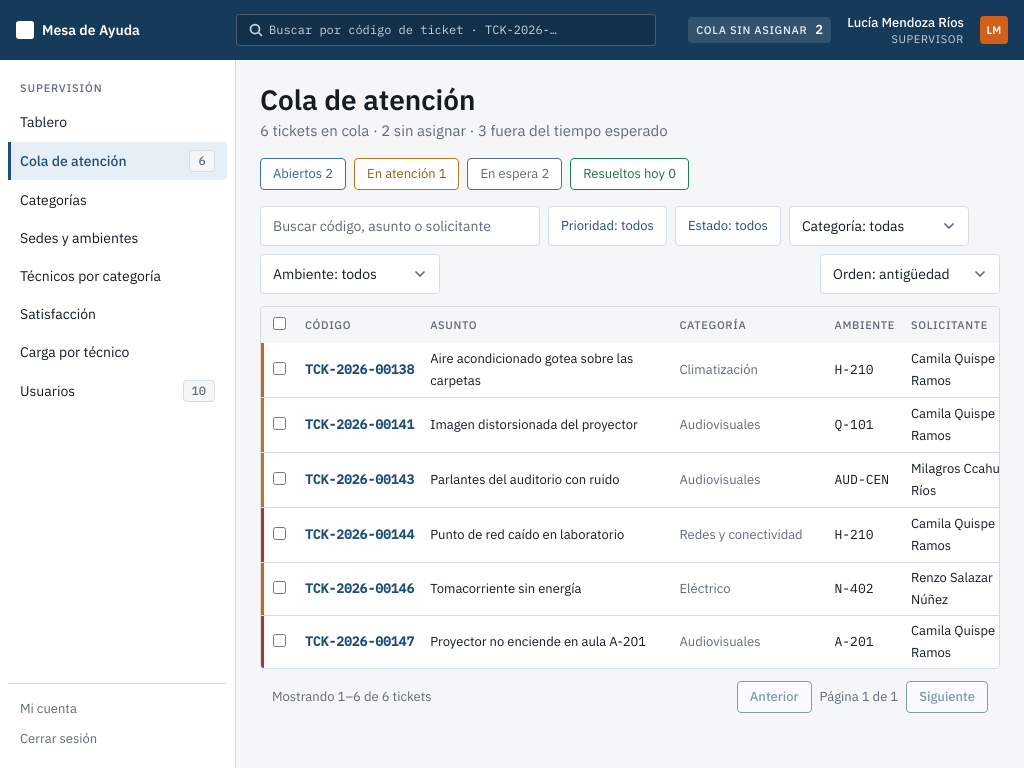
HU-4 · cola y bandeja › no permite devolver a la cola un ticket que ya está sin asignar
Expected: the table named "Tickets de la cola de atención" is shown, [261, 307, 1000, 668]
Click the checkbox named "Seleccionar TCK-2026-00147" at [280, 640], box [273, 634, 286, 646]
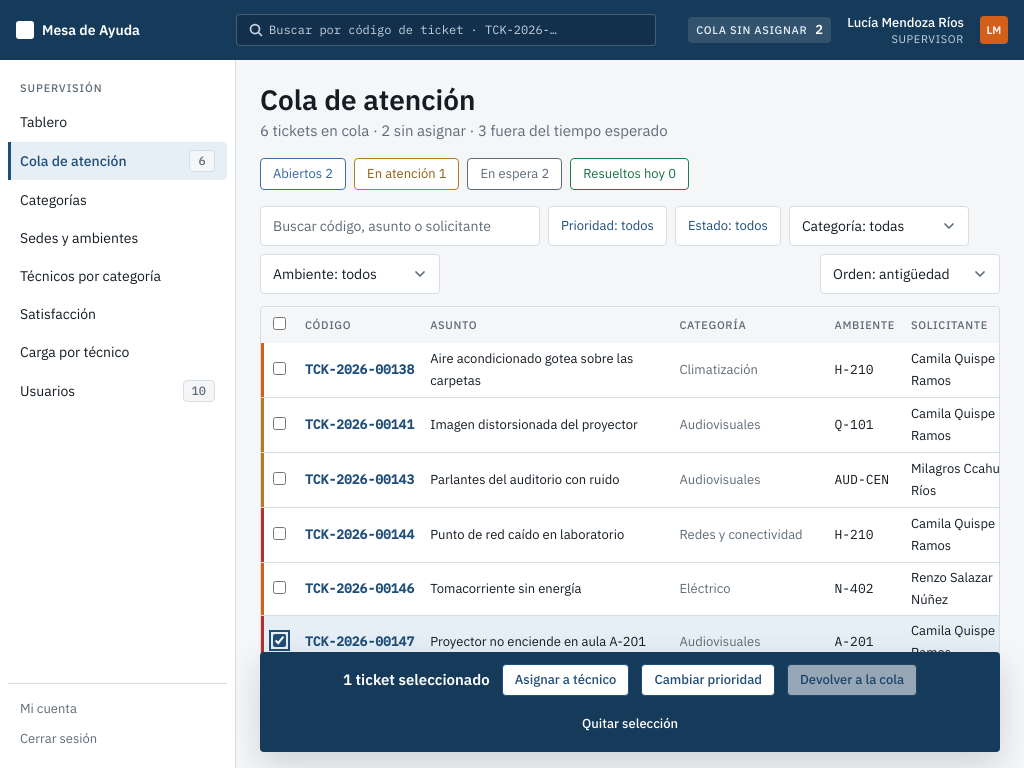
Now the button "Devolver a la cola" is disabled, box [787, 664, 917, 696]
